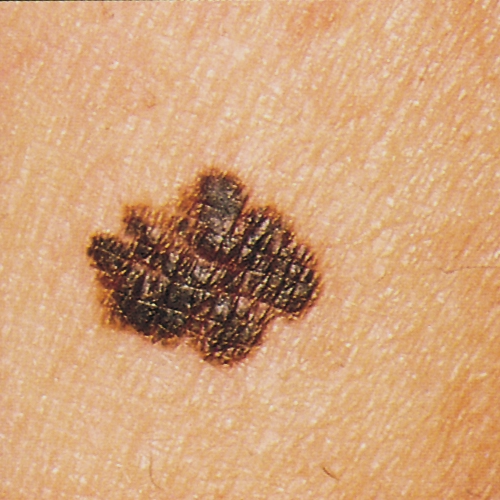Melanoma: (88, 170, 324, 363)
